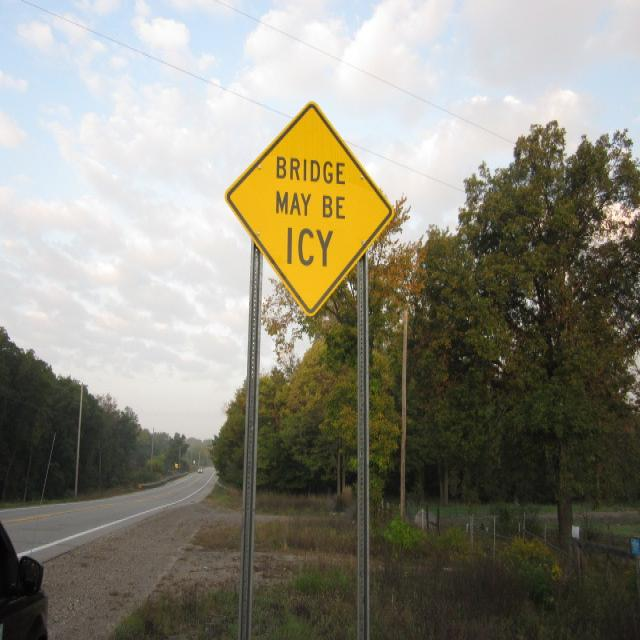warning: (224, 96, 398, 319)
